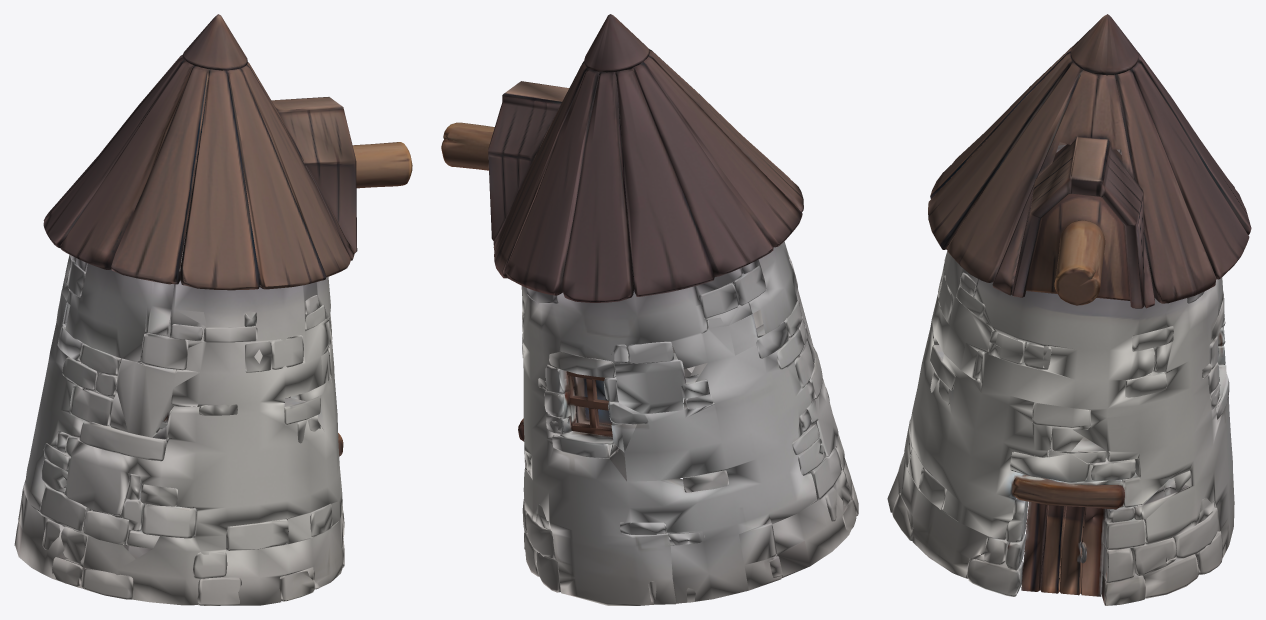
3 views of the same model, side by side, from view 1: azimuth 30°, elevation 25°; view 2: azimuth 150°, elevation 25°; view 3: azimuth 270°, elevation 25° (orthographic). The views are drawn at different scales.
Parts seen in each view (by area): view 1: tripo_node_e5bc05c1; view 2: tripo_node_e5bc05c1; view 3: tripo_node_e5bc05c1.
Part boxes in pixels (<box>): tripo_node_e5bc05c1: <box>14,14,412,605</box>; tripo_node_e5bc05c1: <box>441,14,858,605</box>; tripo_node_e5bc05c1: <box>887,14,1251,605</box>.
Bounding box in the file's own units: 0.7368 × 0.9995 × 0.5962.
Materials: 1 (1 with a texture image).
